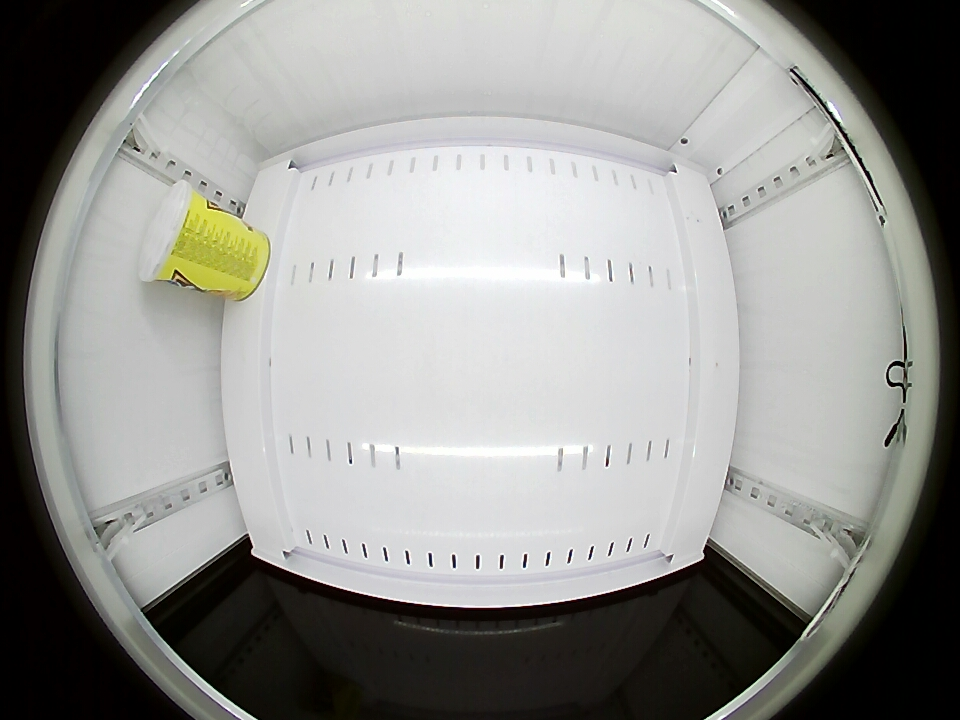kebike: (138, 181, 208, 287)
